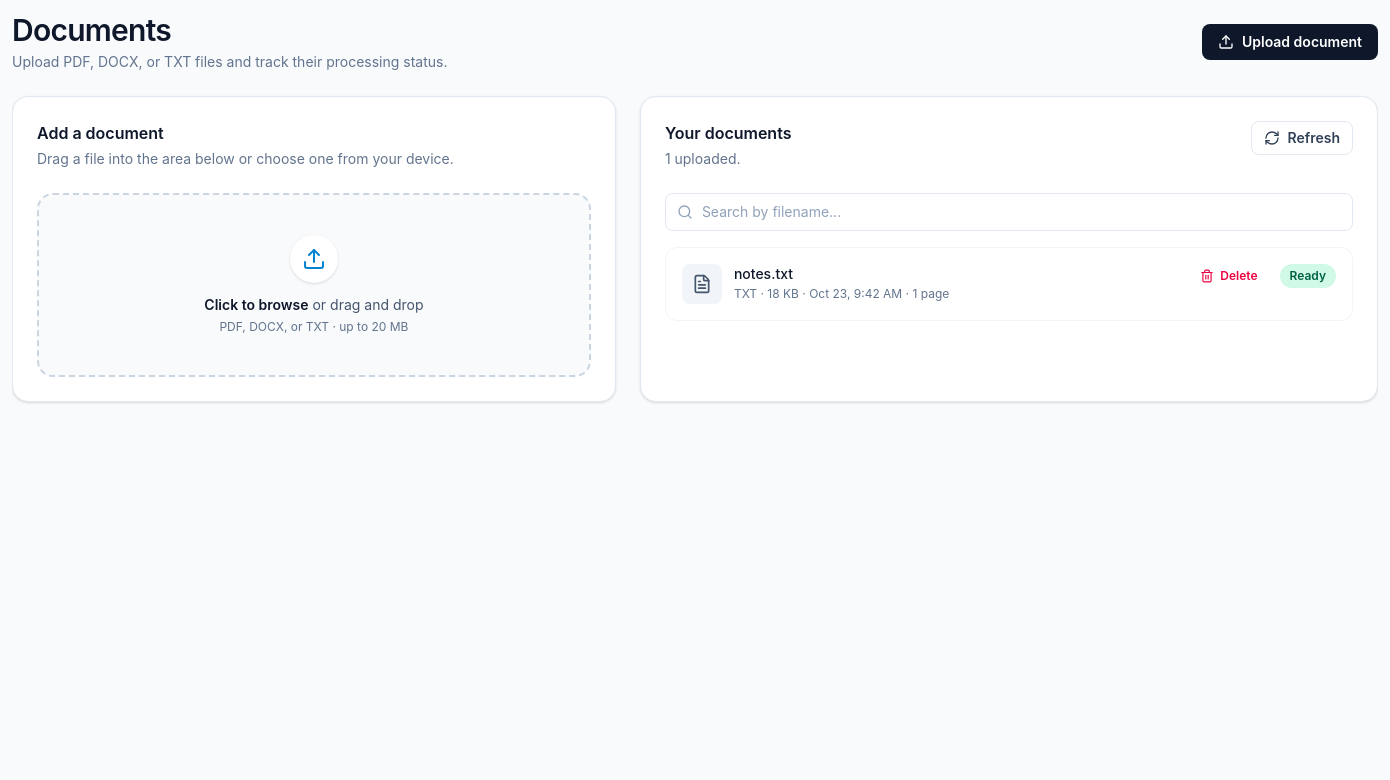
Test case: DocumentsPage › shows a no-match state and clears the search
Check: the link "notes.txt" is shown, box [734,265,793,282]
Step 1. Type "zebra" into the search field named "search documents by filename" → point(1009, 212), box [665,193,1353,231]
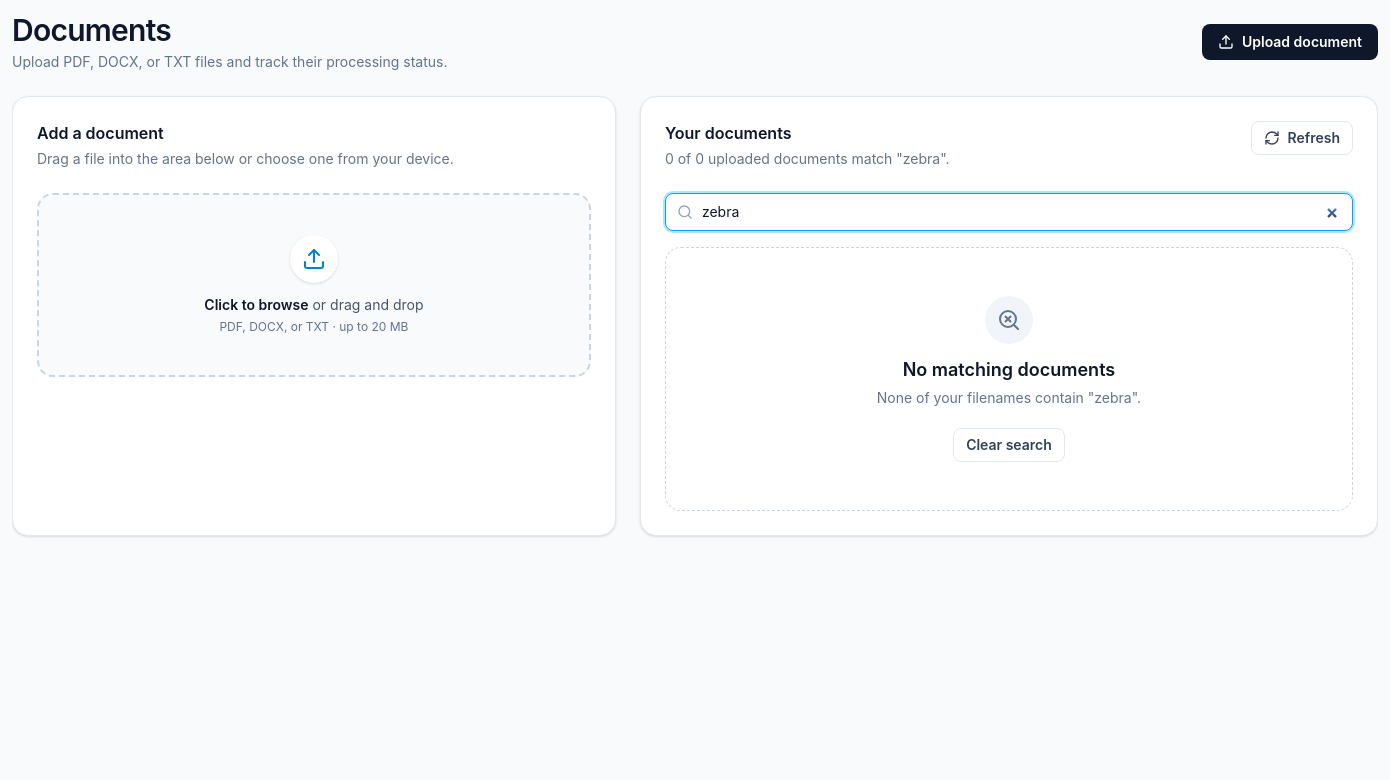
Check: the heading "No matching documents" is shown, box [903,359,1115,380]
Step 2. Click the button "Clear search" → point(1009, 445), box [953,428,1065,462]
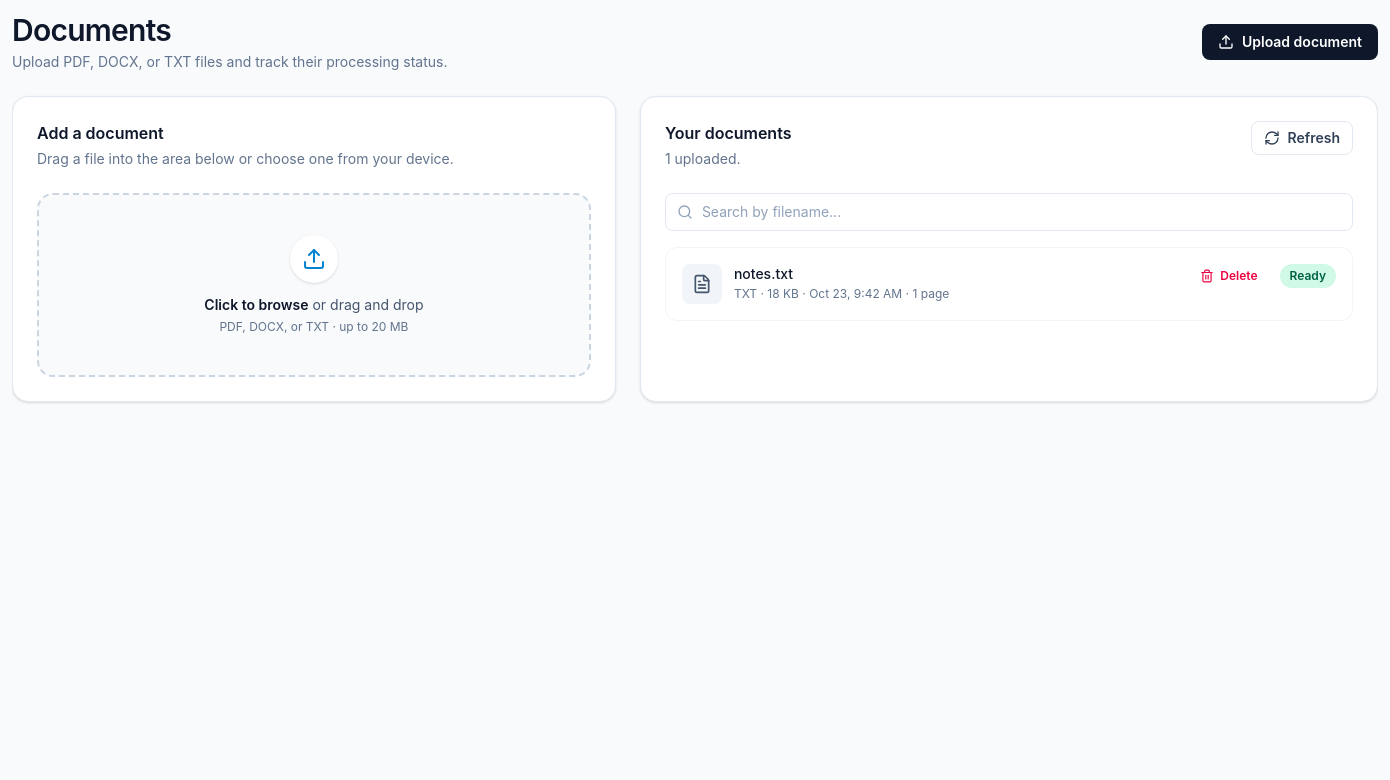
Check: the link "notes.txt" is shown, box [734,265,793,282]
